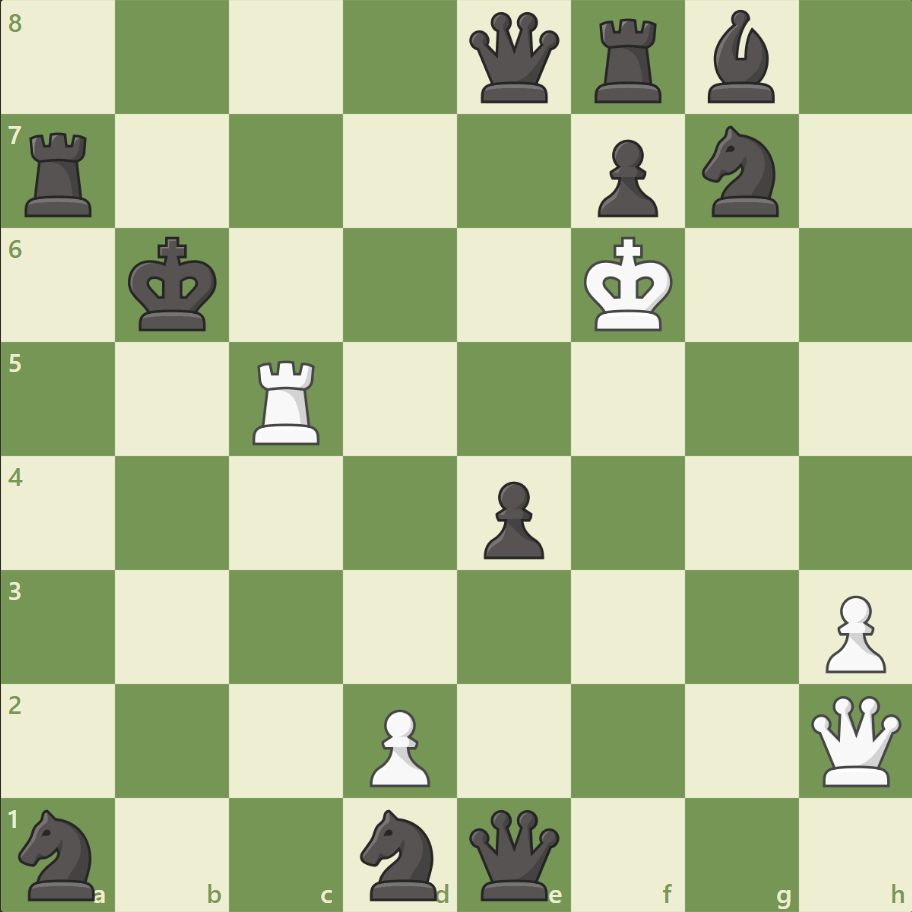K: (579, 231, 679, 339)
P: (815, 586, 889, 677), (361, 700, 435, 791)
Q: (805, 690, 904, 789)
R: (246, 352, 329, 449)
b: (698, 6, 782, 109)
k: (124, 231, 224, 339)
n: (351, 802, 449, 904), (692, 121, 789, 223), (11, 802, 108, 904)
p: (474, 473, 549, 564), (588, 132, 662, 223)
q: (464, 9, 563, 108), (464, 804, 563, 903)
r: (587, 12, 670, 109), (19, 125, 102, 222)
